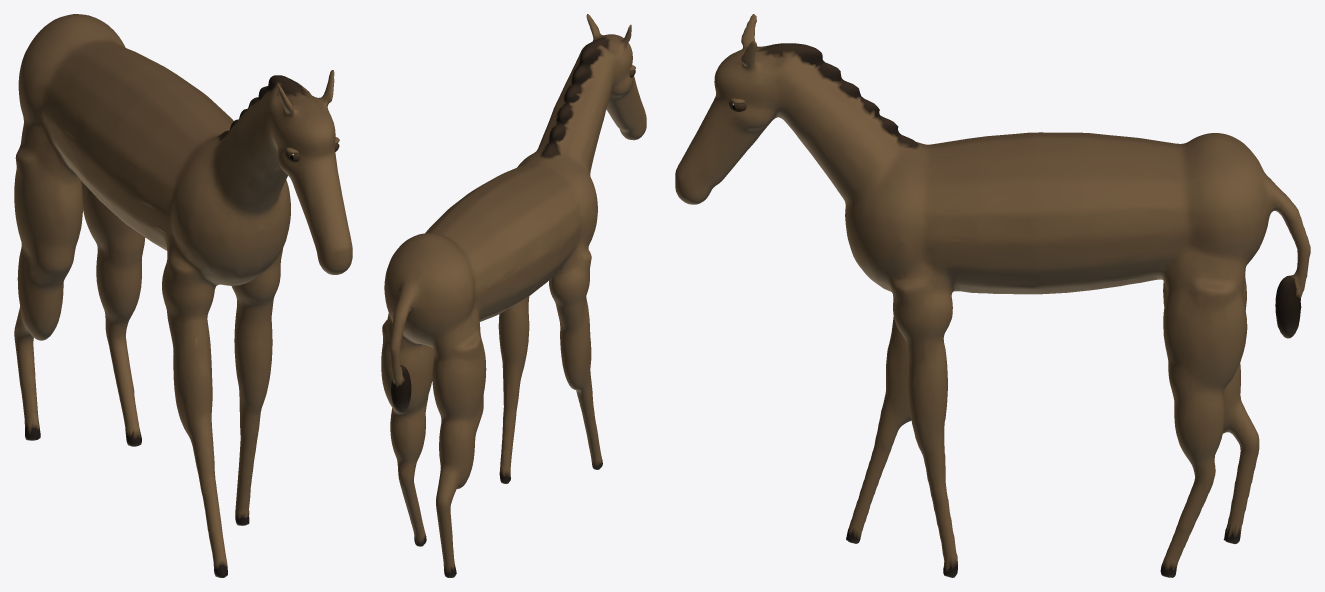
The model's file is HipparionMediterraneum.fbx.
3 views of the same model, side by side, from view 1: azimuth 30°, elevation 25°; view 2: azimuth 150°, elevation 25°; view 3: azimuth 270°, elevation 25° (orthographic). The views are drawn at different scales.
Parts seen in each view (by area): view 1: HipparionMediterraneum; view 2: HipparionMediterraneum; view 3: HipparionMediterraneum.
Boxes of the visible parts, box(x1,y1,x2,y2) form: HipparionMediterraneum: box(14, 14, 352, 577); HipparionMediterraneum: box(381, 14, 646, 577); HipparionMediterraneum: box(675, 14, 1310, 577).
Size of the model in its own units: 0.364 by 1.53 by 1.66.
